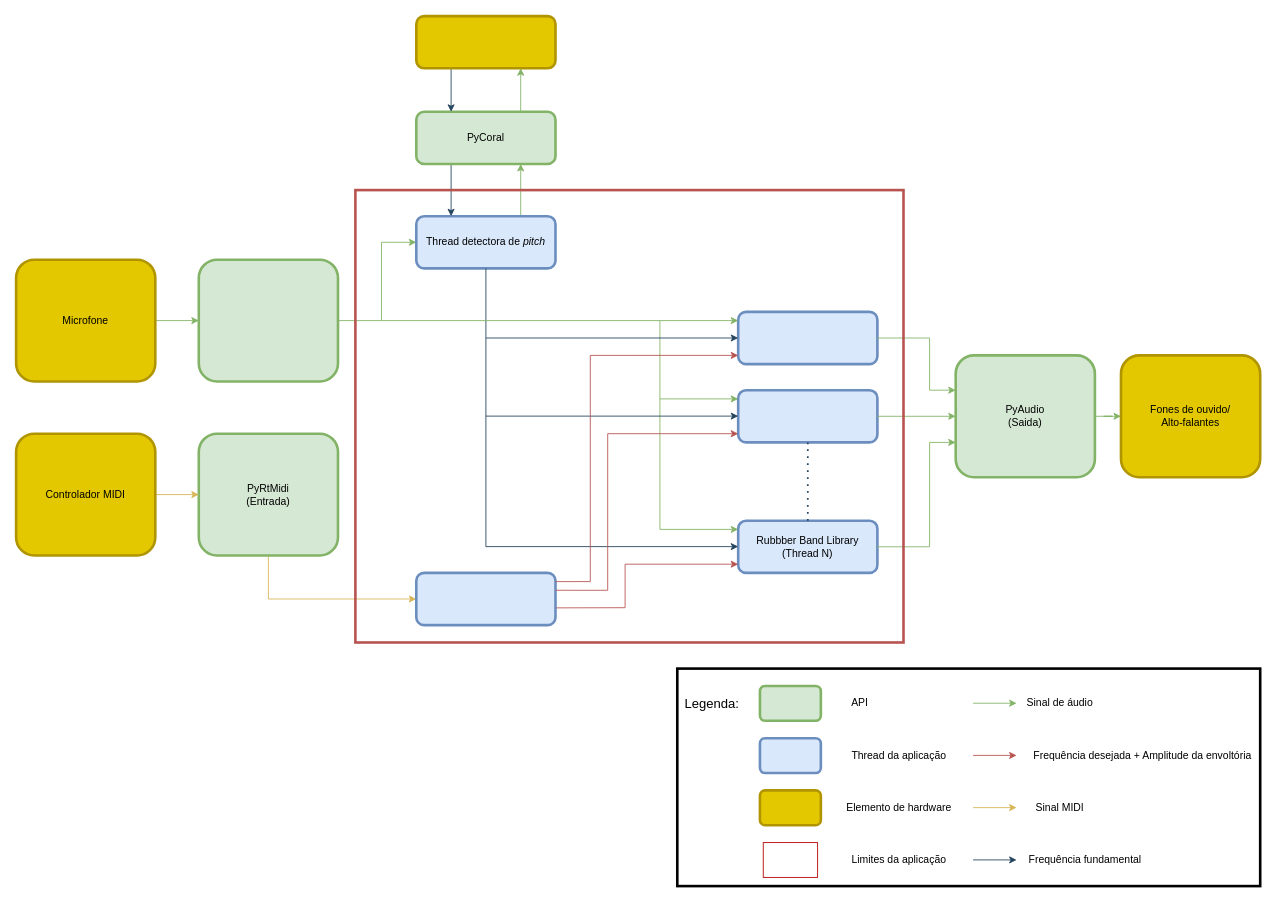
This 1276x919 diagram has some shape labels left out. The shapes that lost their labels are listed below. From the top down, each one's box as (x1, y1, x2, y2) in pixels, then its label:
(415, 14, 556, 69): Coral Edge TPU
(197, 258, 339, 382): PyAudio (Entrada)
(736, 310, 878, 365): Rubbber Band Library (Thread 1)
(736, 388, 878, 443): Rubbber Band Library (Thread 2)
(415, 571, 556, 626): Thread gestora
